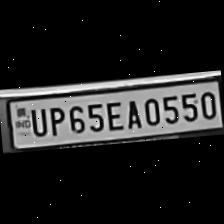0: (195, 87, 218, 120), (140, 92, 162, 126)
5: (83, 98, 105, 132), (159, 91, 181, 125), (177, 90, 199, 124)
6: (64, 102, 86, 134)
A: (122, 96, 142, 128)
E: (103, 98, 125, 132)
P: (44, 103, 66, 137)
U: (26, 104, 48, 138)
